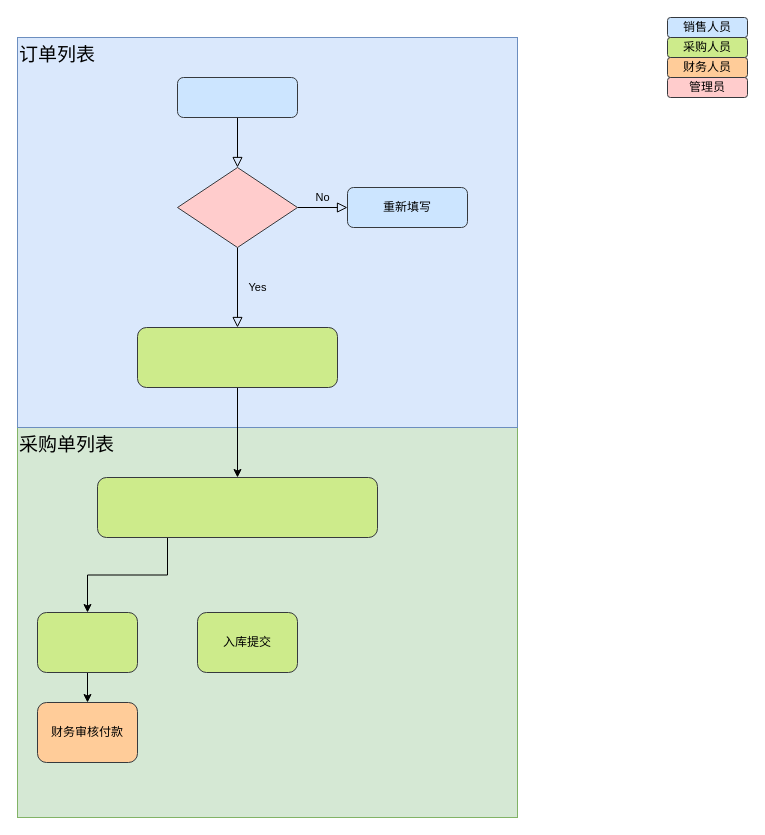
Some shapes in this 765 by 835 pixel diagram are drawn without their labels. Each missing label, with the box of its shape:
填写销售单: (176, 76, 298, 118)
完善采购信息 （供应商、采购单价、采购日期、到货日期） （ 1.采 购情况的维护需要重新整理逻辑 ）: (96, 476, 378, 538)
审核销售单: (176, 166, 298, 248)
我要采购 添加采购物料和数量、选择采购类型 （直接发货、采购入库、出库存）: (136, 326, 338, 388)
申请采购付款: (36, 612, 138, 672)
